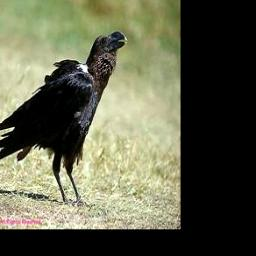Crow: (0, 30, 128, 205)
